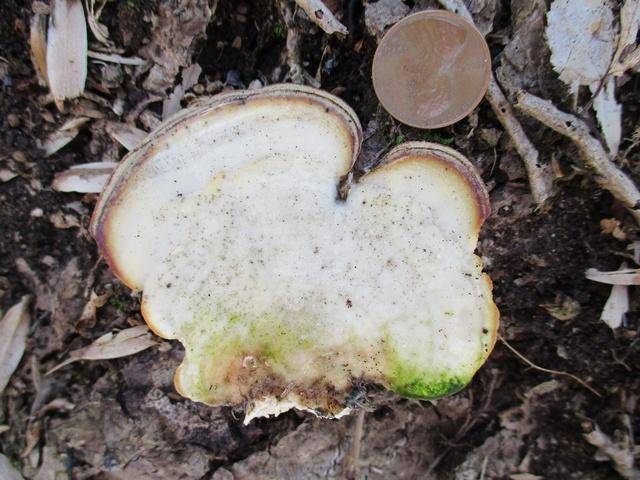Non-edible Mushroom: (87, 81, 501, 425)
